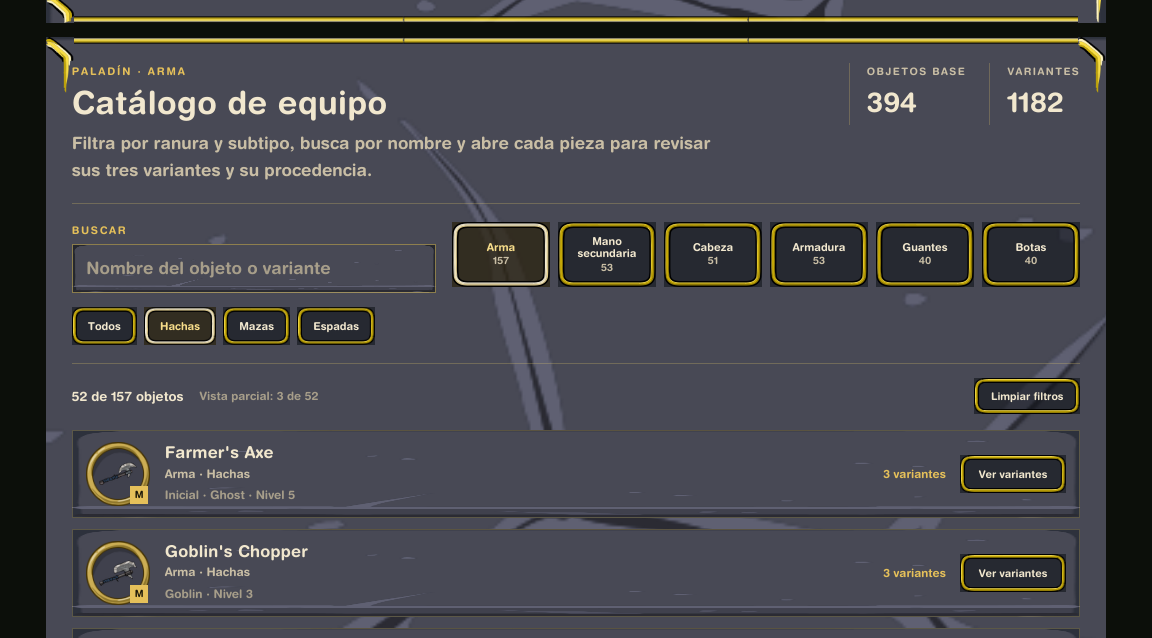
Scenario: ArmoryPage › switches slots and resets the subtype filter
This screenshot has width=1152, height=638.
(page scrolled)
Click the button "Armadura 53": (819, 254) top-left (770, 222), bottom-right (868, 286)
(page scrolled)
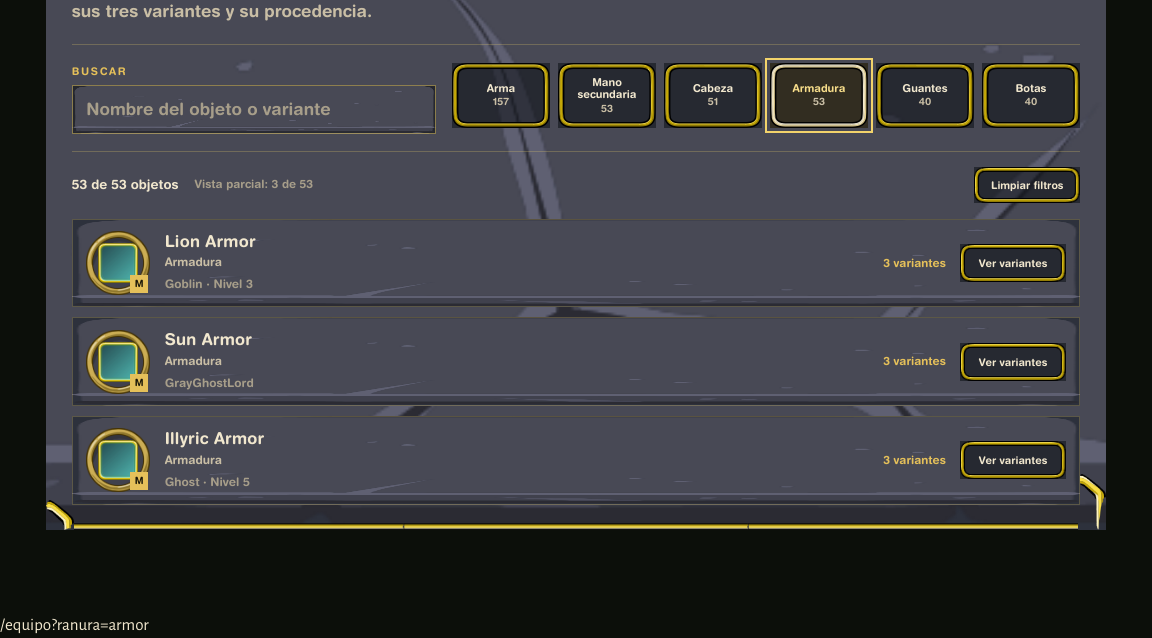
Result: the heading "Lion Armor" is shown at top-left (165, 231), bottom-right (256, 251)
Result: the text with test id "location" reads "/equipo?ranura=armor" at top-left (0, 616), bottom-right (149, 633)
